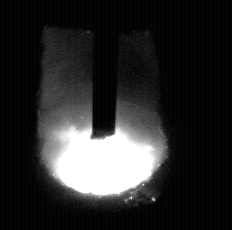arame: (92, 0, 117, 139)
poca: (38, 0, 168, 230)
